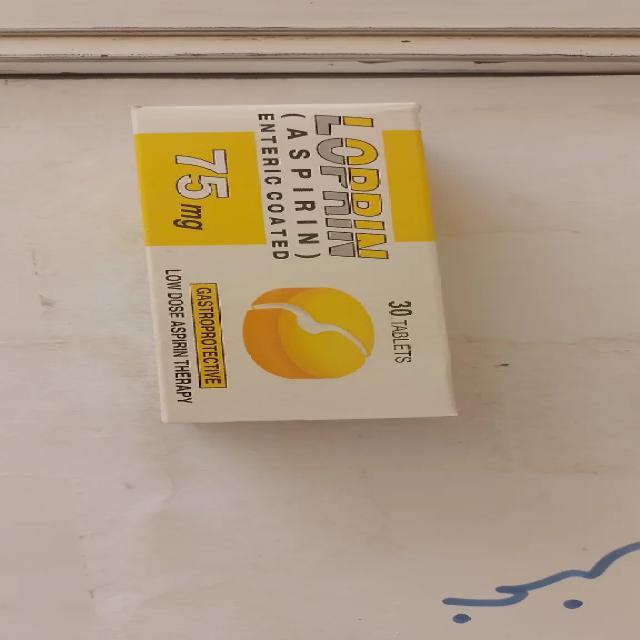drug-name: (311, 109, 391, 263)
